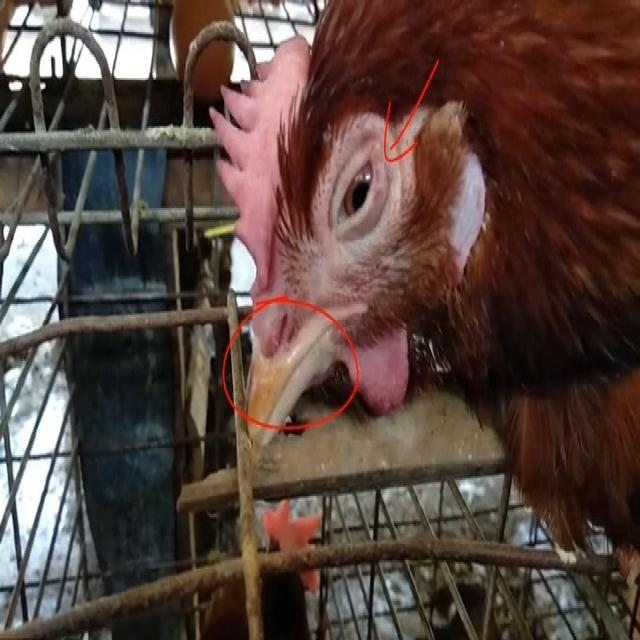bird flu: (200, 12, 640, 540)
